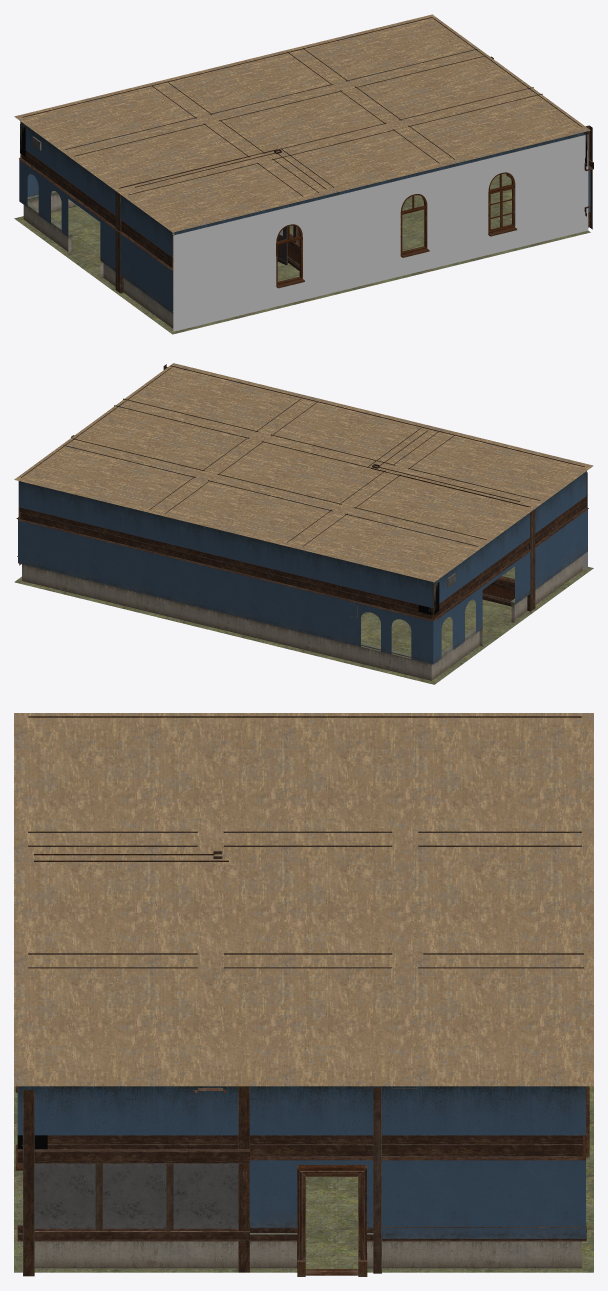
Rendered from st4_304_0_terrain_00ms.fbx.
The picture shows the model from 3 angles, top to bottom: view 1: azimuth 30°, elevation 25°; view 2: azimuth 150°, elevation 25°; view 3: azimuth 270°, elevation 25°; orthographic projection. The views are drawn at different scales.
Parts seen in each view (by area): view 1: LOD_1_Group_0_Sub_5__st2_police1fRightCeiling04, LOD_1_Group_0_Sub_10__OutWall, LOD_1_Group_0_Sub_2__st2_police1fRightWall01, LOD_1_Group_0_Sub_1__st2_police1fRightFloor04, LOD_1_Group_0_Sub_4__st2_police1fRightPillar02, LOD_1_Group_0_Sub_3__st2_police1fRightWall07, LOD_1_Group_0_Sub_7__st2_police1fRightWindows01; view 2: LOD_1_Group_0_Sub_5__st2_police1fRightCeiling04, LOD_1_Group_0_Sub_2__st2_police1fRightWall01, LOD_1_Group_0_Sub_4__st2_police1fRightPillar02, LOD_1_Group_0_Sub_3__st2_police1fRightWall07, LOD_1_Group_0_Sub_1__st2_police1fRightFloor04; view 3: LOD_1_Group_0_Sub_5__st2_police1fRightCeiling04, LOD_1_Group_0_Sub_2__st2_police1fRightWall01, LOD_1_Group_0_Sub_3__st2_police1fRightWall07, LOD_1_Group_0_Sub_4__st2_police1fRightPillar02, LOD_1_Group_0_Sub_8__st2_police1fRightWindows04, LOD_1_Group_0_Sub_1__st2_police1fRightFloor04, LOD_1_Group_0_Sub_6__st2_police1fRightDoor11.
Boxes of the visible parts, x1,y1,x2,y2 form: LOD_1_Group_0_Sub_5__st2_police1fRightCeiling04: (14,14,590,232); LOD_1_Group_0_Sub_10__OutWall: (173,134,588,331); LOD_1_Group_0_Sub_2__st2_police1fRightWall01: (19,121,590,313); LOD_1_Group_0_Sub_1__st2_police1fRightFloor04: (14,173,590,334); LOD_1_Group_0_Sub_4__st2_police1fRightPillar02: (20,17,582,328); LOD_1_Group_0_Sub_3__st2_police1fRightWall07: (19,56,593,293); LOD_1_Group_0_Sub_7__st2_police1fRightWindows01: (276,172,517,288); LOD_1_Group_0_Sub_5__st2_police1fRightCeiling04: (14,363,593,582); LOD_1_Group_0_Sub_2__st2_police1fRightWall01: (18,471,587,664); LOD_1_Group_0_Sub_4__st2_police1fRightPillar02: (18,365,586,680); LOD_1_Group_0_Sub_3__st2_police1fRightWall07: (16,364,588,620); LOD_1_Group_0_Sub_1__st2_police1fRightFloor04: (14,566,593,684); LOD_1_Group_0_Sub_5__st2_police1fRightCeiling04: (14,713,593,1086); LOD_1_Group_0_Sub_2__st2_police1fRightWall01: (17,1086,585,1238); LOD_1_Group_0_Sub_3__st2_police1fRightWall07: (17,851,589,1276); LOD_1_Group_0_Sub_4__st2_police1fRightPillar02: (28,716,585,1268); LOD_1_Group_0_Sub_8__st2_police1fRightWindows04: (34,1163,238,1228); LOD_1_Group_0_Sub_1__st2_police1fRightFloor04: (14,1086,593,1272); LOD_1_Group_0_Sub_6__st2_police1fRightDoor11: (297,1165,367,1276).
Bounding box in the file's own units: 16.94 × 3.99 × 11.
